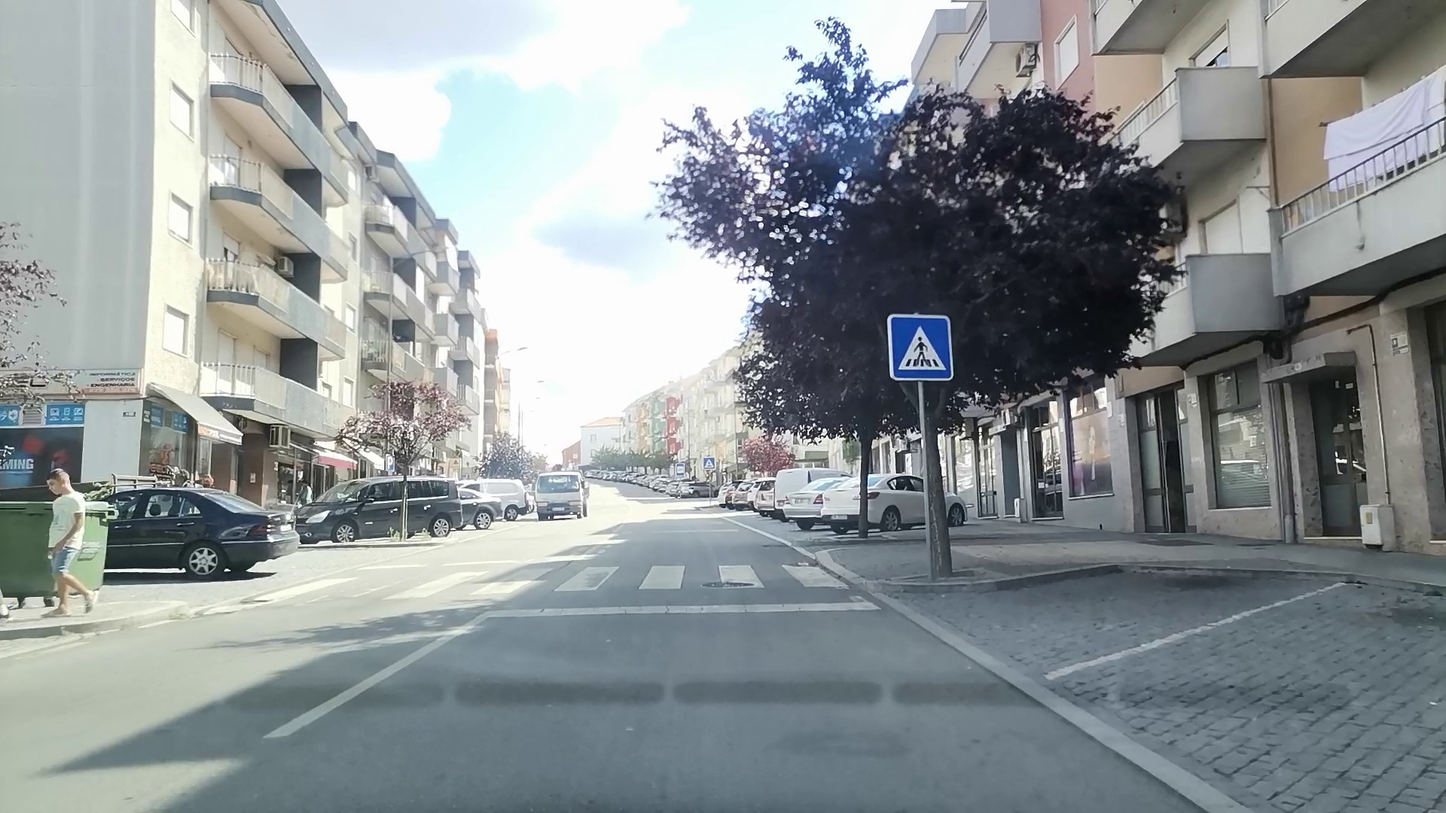Stairs: (206, 562, 851, 608)
